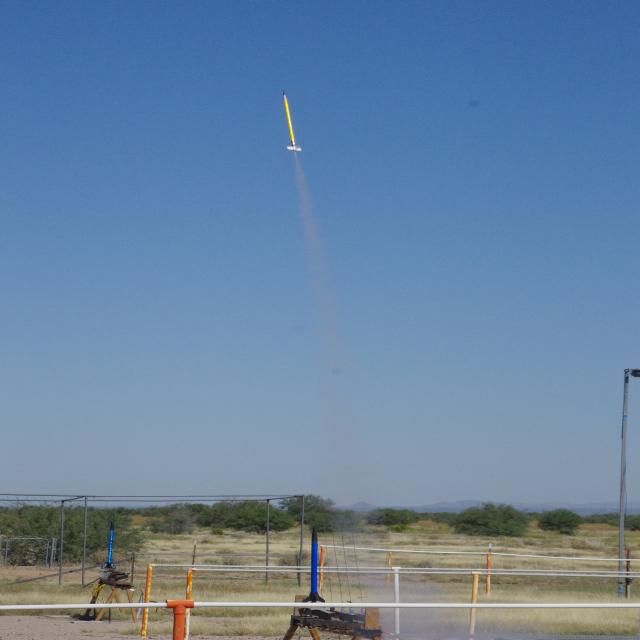Rocket: (301, 526, 326, 604), (282, 89, 302, 153), (101, 518, 119, 571)
